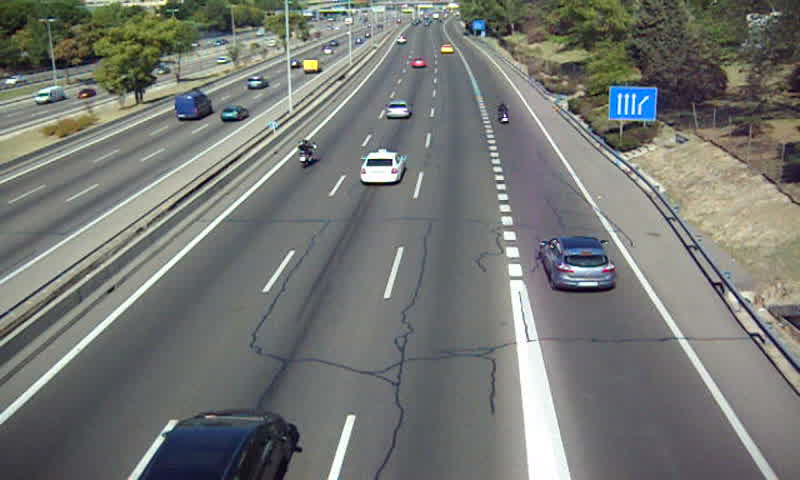car: (541, 236, 617, 290), (360, 151, 404, 183), (384, 100, 410, 119), (411, 56, 429, 70), (440, 44, 454, 54)
motorcycle: (295, 138, 316, 170), (497, 102, 513, 127)
